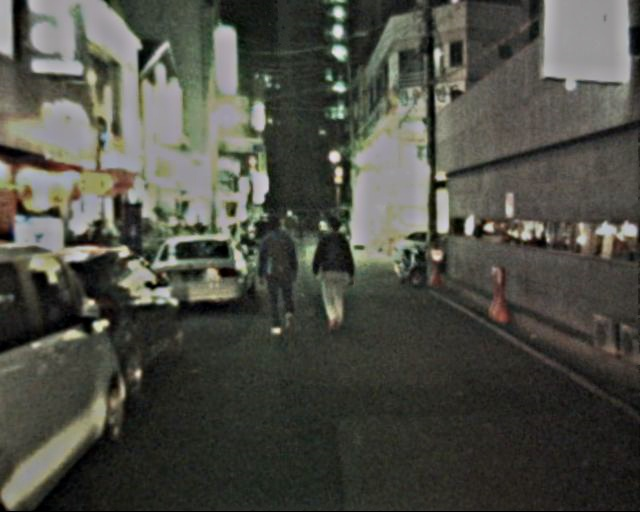person: (253, 217, 302, 335), (310, 217, 357, 332)
